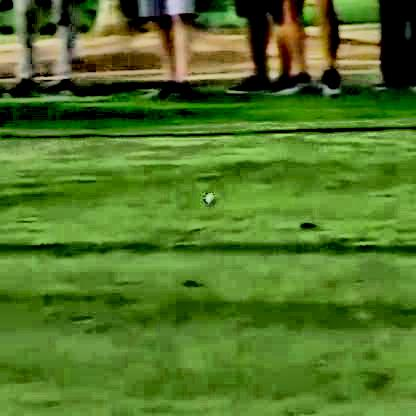golfball: (200, 188, 213, 204)
